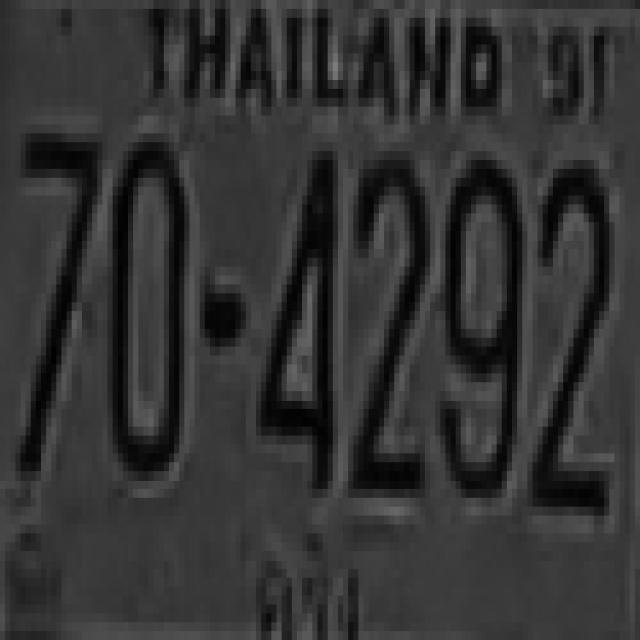0: (108, 133, 184, 471)
2: (530, 156, 612, 484), (348, 147, 425, 484), (348, 146, 425, 458)
4: (256, 138, 333, 484)
7: (18, 125, 100, 471)
9: (435, 151, 517, 489)
Trang: (240, 528, 372, 640)
